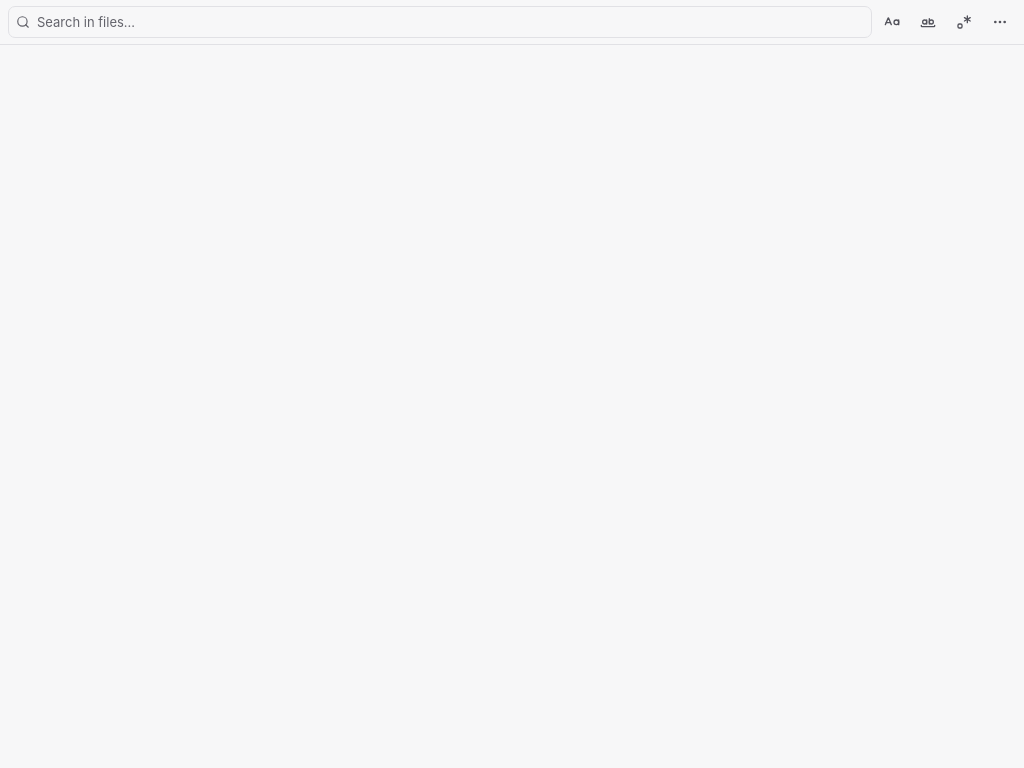
it: ContentSearch › tells what was not searched
Step 1. Type "foo" into the search field named "Search file contents" → (440, 22), box [8,6,872,38]
Wait 300 ms
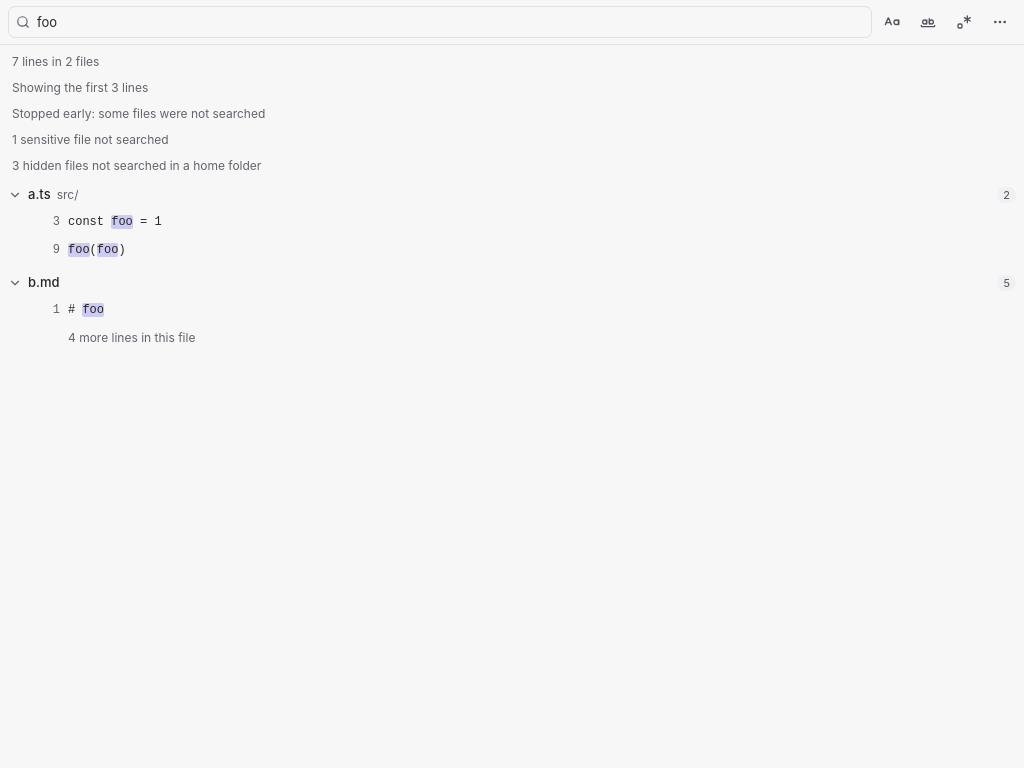
Expected: the text "Showing the first 3 lines" is shown, [12,80,148,95]
Expected: the text "Stopped early: some files were not searched" is shown, [12,106,265,121]
Expected: the text "1 sensitive file not searched" is shown, [12,132,169,147]
